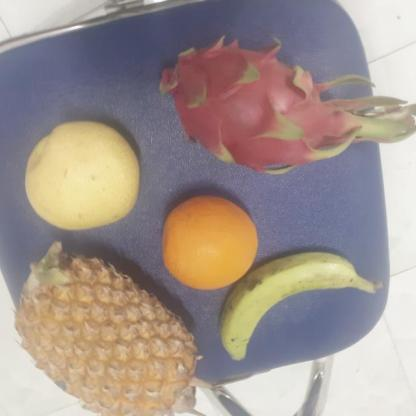banana: (216, 247, 359, 362)
orange: (161, 191, 260, 295)
pear: (23, 120, 141, 235)
pineapple: (15, 255, 194, 415)
pitaya: (164, 45, 337, 174)
